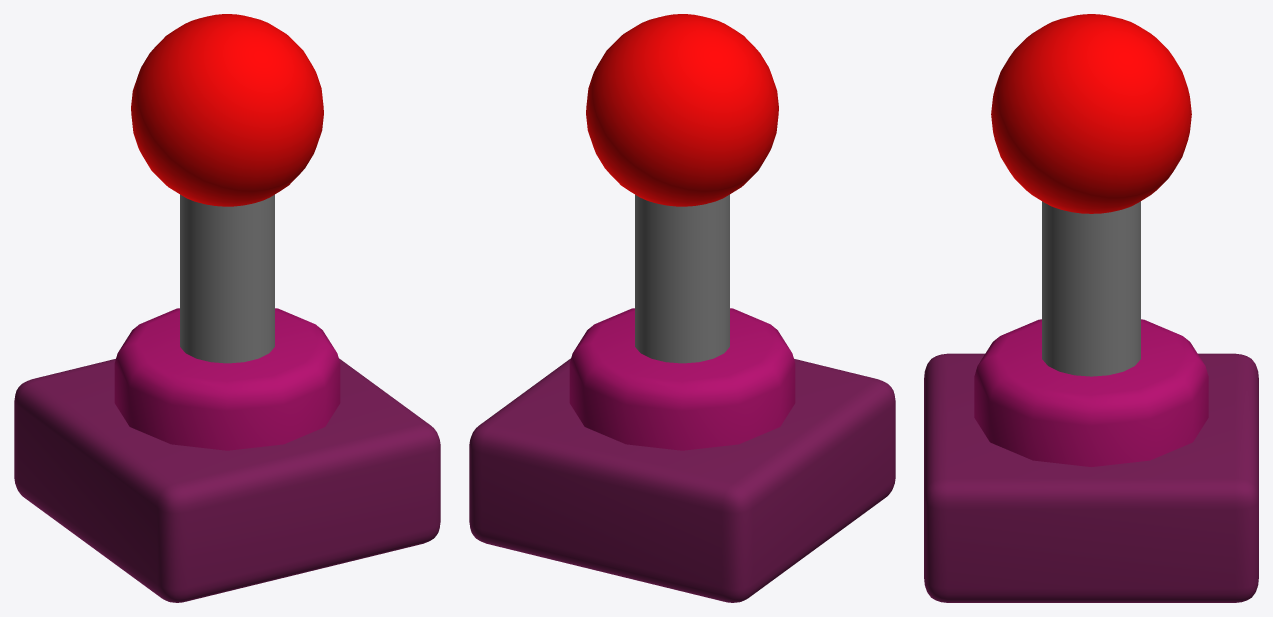
Rendered from joystick.glb.
3 views of the same model, side by side, from view 1: azimuth 30°, elevation 25°; view 2: azimuth 150°, elevation 25°; view 3: azimuth 270°, elevation 25° (orthographic). The views are drawn at different scales.
Visible parts, largest first — view 1: Box002, Joystick Top001, ChamferCyl001, Joystick Handle001; view 2: Box002, Joystick Top001, ChamferCyl001, Joystick Handle001; view 3: Box002, Joystick Top001, ChamferCyl001, Joystick Handle001.
Part boxes in pixels (x1,y1,x2,y2): Box002: [14, 358, 440, 602]; Joystick Top001: [131, 14, 323, 206]; ChamferCyl001: [114, 308, 340, 450]; Joystick Handle001: [180, 194, 274, 363]; Box002: [469, 358, 895, 602]; Joystick Top001: [586, 14, 778, 206]; ChamferCyl001: [569, 308, 795, 450]; Joystick Handle001: [635, 194, 729, 363]; Box002: [924, 353, 1258, 602]; Joystick Top001: [991, 14, 1191, 213]; ChamferCyl001: [974, 319, 1208, 466]; Joystick Handle001: [1042, 201, 1140, 376].
Bounding box in the file's own units: 0.5 × 0.85 × 0.5.
